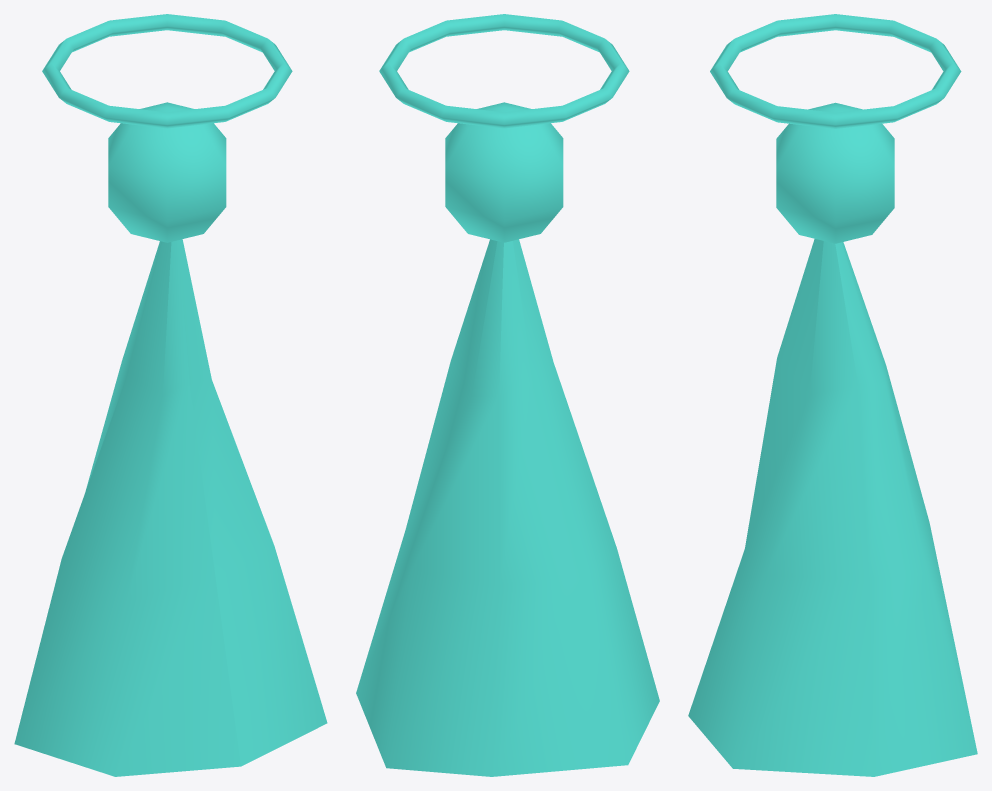
File: southpoint-wisp-v1.glb
The picture shows the model from 3 angles, left to right: view 1: azimuth 30°, elevation 25°; view 2: azimuth 150°, elevation 25°; view 3: azimuth 270°, elevation 25°; orthographic projection.
Visible parts, largest first — view 1: Southpoint Wisp Monk; view 2: Southpoint Wisp Monk; view 3: Southpoint Wisp Monk.
Part boxes in pixels (bbox=[...]): Southpoint Wisp Monk: bbox=[14, 14, 327, 776]; Southpoint Wisp Monk: bbox=[356, 14, 659, 776]; Southpoint Wisp Monk: bbox=[688, 14, 977, 776].
Size of the model in its own units: 0.6906 by 1.64 by 0.6448.
